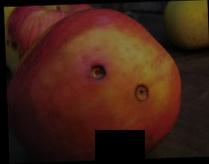rotten apple: (6, 3, 183, 158)
